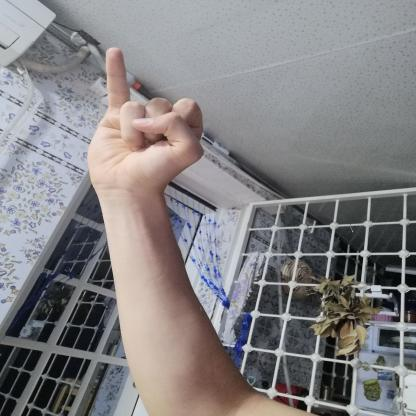MEEM: (66, 36, 224, 206)
